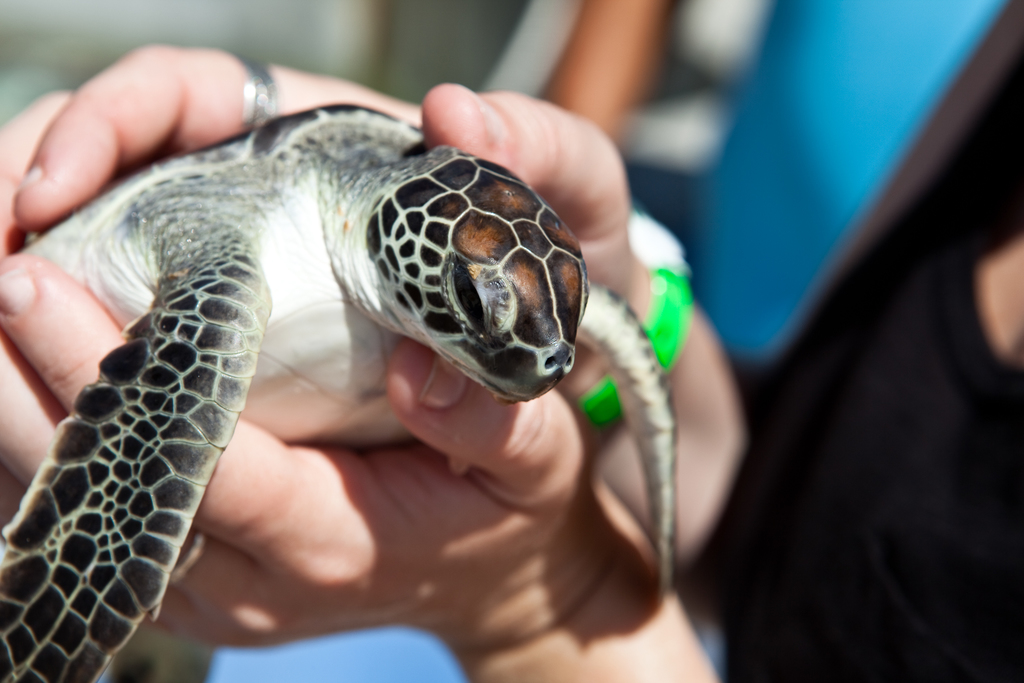Sea turtles: (0, 96, 679, 682)
